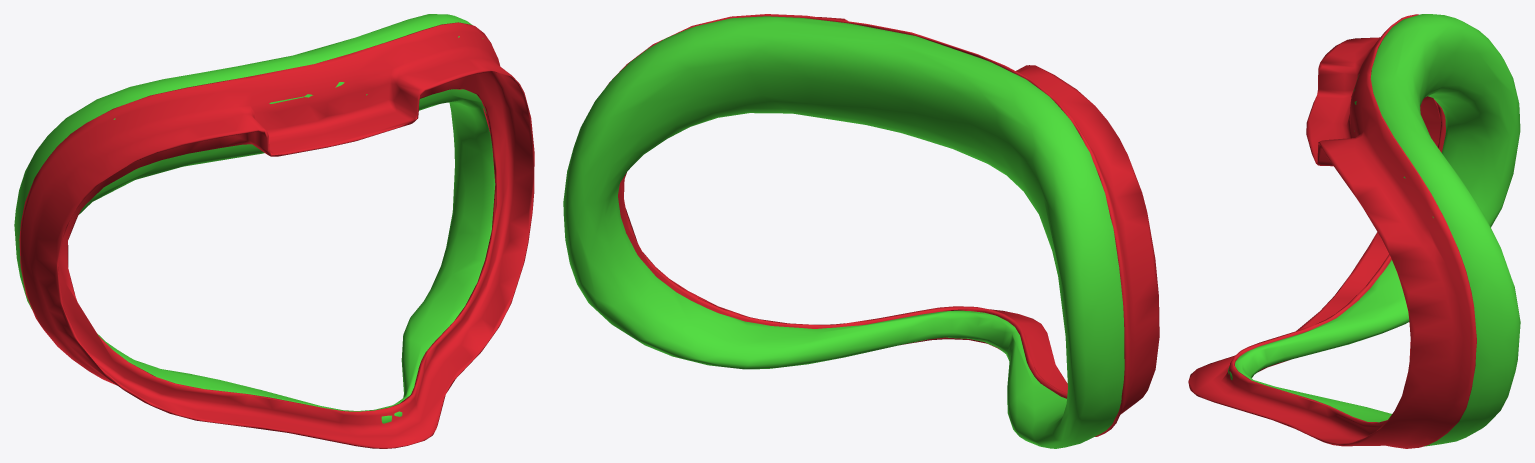
File: kis_low.fbx
3 views of the same model, side by side, from view 1: azimuth 30°, elevation 25°; view 2: azimuth 150°, elevation 25°; view 3: azimuth 270°, elevation 25° (orthographic). The views are drawn at different scales.
Visible parts, largest first — view 1: kissen; view 2: kissen; view 3: kissen.
Boxes of the visible parts, bbox=[...] form: kissen: bbox=[14, 14, 534, 448]; kissen: bbox=[563, 14, 1159, 448]; kissen: bbox=[1188, 14, 1520, 448].
Size of the model in its own units: 121 by 75.87 by 73.47.
